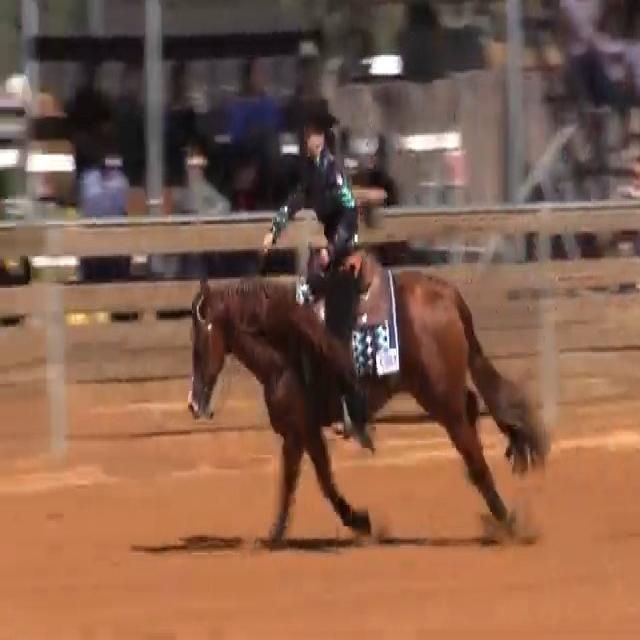horse: (184, 252, 550, 548)
